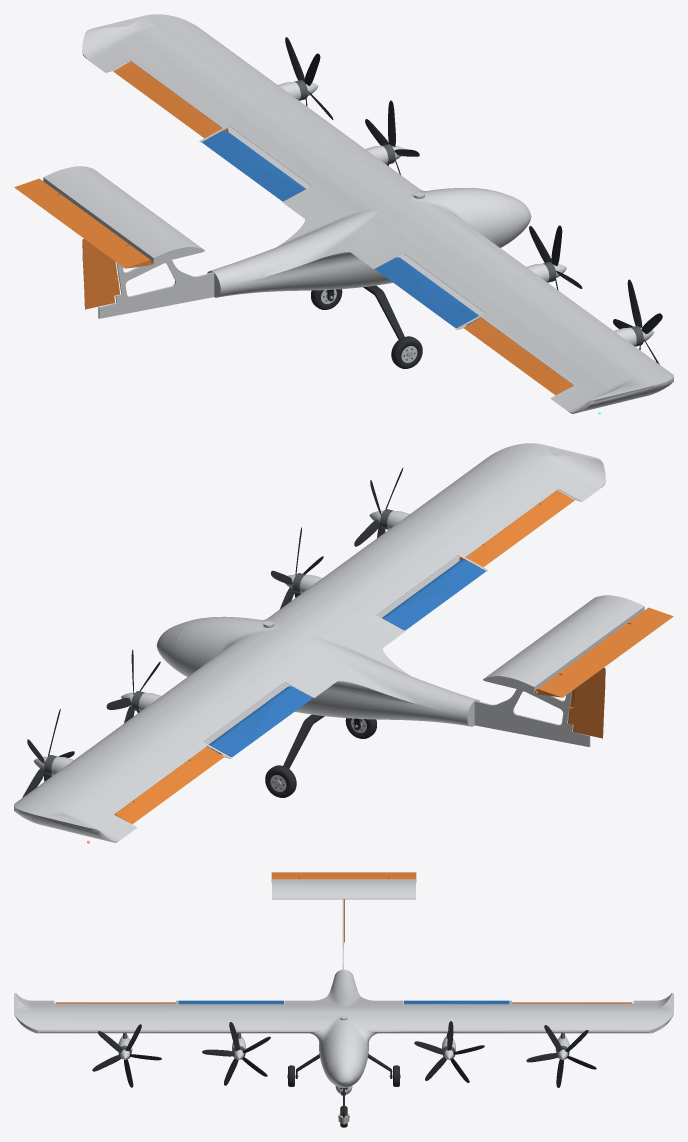
The model's file is kestrel_s1.glb.
The picture shows the model from 3 angles, top to bottom: view 1: azimuth 30°, elevation 25°; view 2: azimuth 150°, elevation 25°; view 3: azimuth 270°, elevation 25°; orthographic projection. The views are drawn at different scales.
Visible parts, largest first — view 1: Kestrel_S1_body, Kestrel_S1_elevator, Kestrel_S1_right_flap, Kestrel_S1_left_flap, Kestrel_S1_left_aileron, Kestrel_S1_right_aileron, Kestrel_S1_rudder, Kestrel_S1_left_inner_motor_blades, Kestrel_S1_right_outer_motor_blades, Kestrel_S1_right_inner_motor_blades, Kestrel_S1_left_outer_motor_blades, Kestrel_S1_right_main_wheel_tire; view 2: Kestrel_S1_body, Kestrel_S1_elevator, Kestrel_S1_left_flap, Kestrel_S1_right_flap, Kestrel_S1_right_aileron, Kestrel_S1_left_aileron, Kestrel_S1_rudder, Kestrel_S1_left_main_wheel_tire; view 3: Kestrel_S1_body, Kestrel_S1_elevator, Kestrel_S1_right_outer_motor_blades, Kestrel_S1_right_inner_motor_blades, Kestrel_S1_left_inner_motor_blades, Kestrel_S1_left_outer_motor_blades, Kestrel_S1_left_flap, Kestrel_S1_right_flap.
Boxes of the visible parts, bbox=[...] form: Kestrel_S1_body: bbox=[43, 14, 673, 413]; Kestrel_S1_elevator: bbox=[14, 178, 152, 268]; Kestrel_S1_right_flap: bbox=[375, 257, 480, 328]; Kestrel_S1_left_flap: bbox=[202, 130, 305, 201]; Kestrel_S1_left_aileron: bbox=[113, 61, 228, 138]; Kestrel_S1_right_aileron: bbox=[463, 317, 573, 395]; Kestrel_S1_rudder: bbox=[82, 239, 119, 309]; Kestrel_S1_left_inner_motor_blades: bbox=[365, 100, 419, 174]; Kestrel_S1_right_outer_motor_blades: bbox=[613, 279, 662, 364]; Kestrel_S1_right_inner_motor_blades: bbox=[529, 225, 582, 290]; Kestrel_S1_left_outer_motor_blades: bbox=[285, 37, 333, 119]; Kestrel_S1_right_main_wheel_tire: bbox=[391, 336, 422, 368]; Kestrel_S1_body: bbox=[14, 443, 644, 842]; Kestrel_S1_elevator: bbox=[535, 607, 673, 697]; Kestrel_S1_left_flap: bbox=[207, 686, 312, 757]; Kestrel_S1_right_flap: bbox=[382, 559, 485, 630]; Kestrel_S1_right_aileron: bbox=[459, 490, 574, 567]; Kestrel_S1_left_aileron: bbox=[114, 746, 224, 824]; Kestrel_S1_rudder: bbox=[568, 668, 605, 738]; Kestrel_S1_left_main_wheel_tire: bbox=[265, 765, 296, 797]; Kestrel_S1_body: bbox=[14, 879, 673, 1124]; Kestrel_S1_elevator: bbox=[271, 872, 416, 882]; Kestrel_S1_right_outer_motor_blades: bbox=[92, 1024, 161, 1087]; Kestrel_S1_right_inner_motor_blades: bbox=[202, 1022, 270, 1085]; Kestrel_S1_left_inner_motor_blades: bbox=[414, 1021, 484, 1082]; Kestrel_S1_left_outer_motor_blades: bbox=[526, 1025, 596, 1087]; Kestrel_S1_left_flap: bbox=[404, 1000, 509, 1004]; Kestrel_S1_right_flap: bbox=[178, 1000, 283, 1004].
Bounding box in the file's own units: 5.77 × 2.27 × 11.01.
